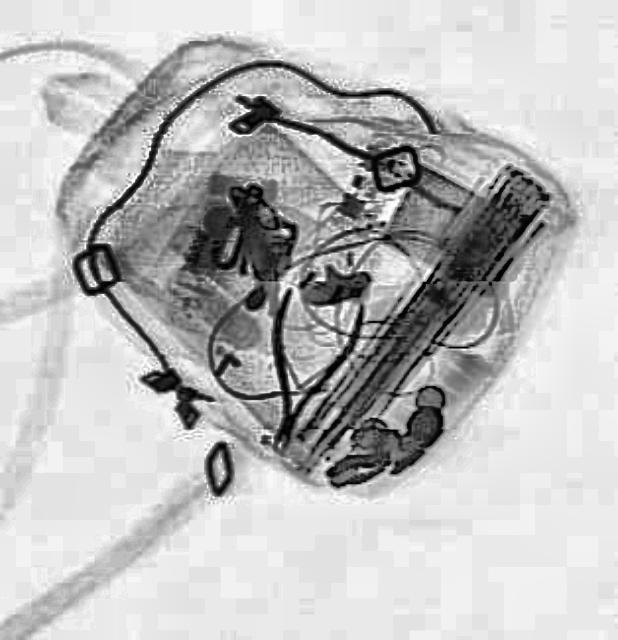Pliers: (236, 282, 364, 458)
